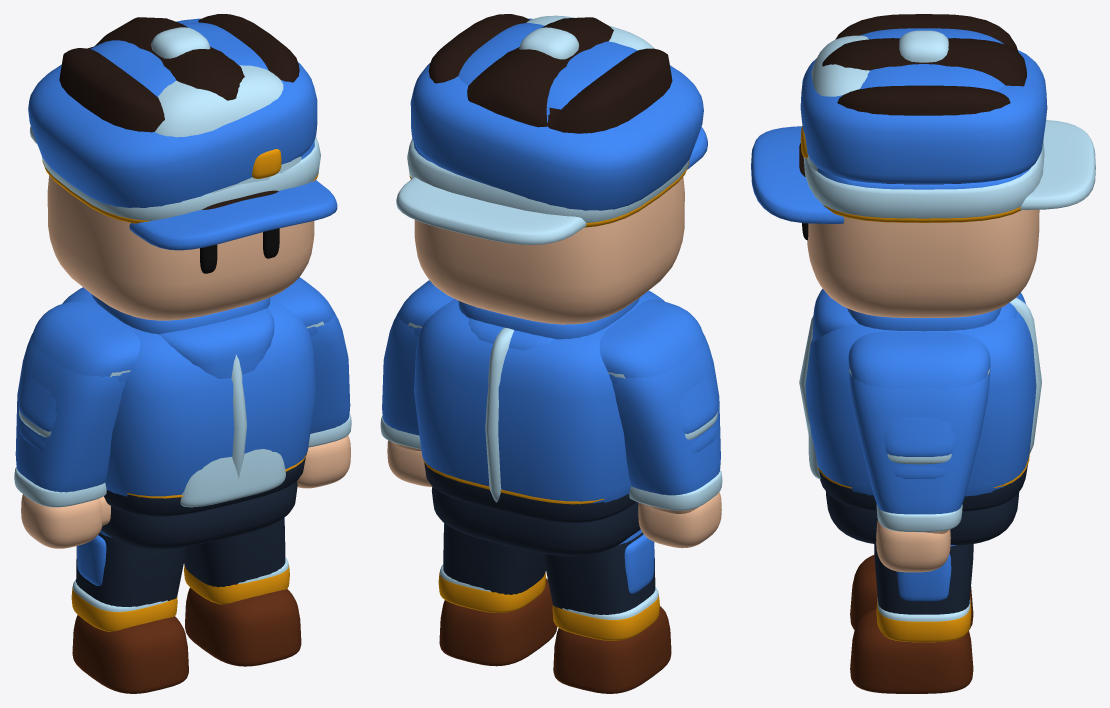
The model's file is character_modular_v4_6sets_backup.glb.
3 views of the same model, side by side, from view 1: azimuth 30°, elevation 25°; view 2: azimuth 150°, elevation 25°; view 3: azimuth 270°, elevation 25° (orthographic). The views are drawn at different scales.
Visible parts, largest first — view 1: Top06_PufferVest_Body, Hat05_Beret_Crown, Head_Base, Hat04_SpikyHair, Top03_Hoodie_LongSleeve_R, Shoes01_Sneaker_Upper_L, Shoes01_Sneaker_Upper_R, Hat01_Cap_Visor, Top01_Jersey_Sleeve_R, Bot02_Komprang_Pelvis, Hat01_Cap_FrontPanel, Bot02_Komprang_Leg_R (+20 smaller); view 2: Top06_PufferVest_Body, Hat05_Beret_Crown, Head_Base, Hat04_SpikyHair, Top03_Hoodie_LongSleeve_R, Top01_Jersey_Sleeve_R, Bot02_Komprang_Pelvis, Hat03_Cap_BackVisor, Shoes01_Sneaker_Upper_R, Shoes01_Sneaker_Upper_L, Bot02_Komprang_Leg_R, Bot02_Komprang_Leg_L (+19 smaller); view 3: Head_Base, Hat05_Beret_Crown, Top06_PufferVest_Body, Top03_Hoodie_LongSleeve_L, Hat04_SpikyHair, Top01_Jersey_Sleeve_L, Hat06_Beanie_FoldedCuff, Shoes01_Sneaker_Upper_L, Hat01_Cap_Visor, Hat03_Cap_BackVisor, Hat01_Cap_Crown, Bot02_Komprang_Pelvis (+16 smaller).
Boxes of the visible parts, left/top/right/bottom form: Top06_PufferVest_Body: left=62, top=287, right=316, bottom=496; Hat05_Beret_Crown: left=28, top=18, right=317, bottom=207; Head_Base: left=47, top=175, right=314, bottom=320; Hat04_SpikyHair: left=59, top=14, right=299, bottom=132; Top03_Hoodie_LongSleeve_R: left=15, top=308, right=125, bottom=492; Shoes01_Sneaker_Upper_L: left=185, top=587, right=301, bottom=665; Shoes01_Sneaker_Upper_R: left=72, top=615, right=188, bottom=692; Hat01_Cap_Visor: left=129, top=180, right=337, bottom=250; Top01_Jersey_Sleeve_R: left=19, top=299, right=140, bottom=431; Bot02_Komprang_Pelvis: left=101, top=481, right=297, bottom=549; Hat01_Cap_FrontPanel: left=155, top=65, right=301, bottom=193; Bot02_Komprang_Leg_R: left=76, top=533, right=186, bottom=607; Top06_PufferVest_Body: left=414, top=290, right=664, bottom=503; Hat05_Beret_Crown: left=410, top=18, right=703, bottom=210; Head_Base: left=414, top=177, right=684, bottom=324; Hat04_SpikyHair: left=428, top=14, right=672, bottom=133; Top03_Hoodie_LongSleeve_R: left=612, top=309, right=720, bottom=495; Top01_Jersey_Sleeve_R: left=599, top=299, right=717, bottom=433; Bot02_Komprang_Pelvis: left=431, top=486, right=640, bottom=556; Hat03_Cap_BackVisor: left=396, top=177, right=586, bottom=244; Shoes01_Sneaker_Upper_R: left=553, top=606, right=671, bottom=692; Shoes01_Sneaker_Upper_L: left=439, top=578, right=557, bottom=664; Bot02_Komprang_Leg_R: left=543, top=532, right=655, bottom=614; Bot02_Komprang_Leg_L: left=443, top=523, right=545, bottom=594; Head_Base: left=807, top=209, right=1039, bottom=318; Hat05_Beret_Crown: left=800, top=50, right=1047, bottom=183; Top06_PufferVest_Body: left=805, top=292, right=1036, bottom=496; Top03_Hoodie_LongSleeve_L: left=849, top=332, right=989, bottom=514; Hat04_SpikyHair: left=822, top=14, right=1026, bottom=184; Top01_Jersey_Sleeve_L: left=848, top=331, right=990, bottom=456; Hat06_Beanie_FoldedCuff: left=803, top=139, right=1044, bottom=218; Shoes01_Sneaker_Upper_L: left=850, top=608, right=973, bottom=692; Hat01_Cap_Visor: left=751, top=126, right=843, bottom=223; Hat03_Cap_BackVisor: left=1020, top=120, right=1095, bottom=209; Hat01_Cap_Crown: left=859, top=28, right=1005, bottom=90; Bot02_Komprang_Pelvis: left=825, top=491, right=1019, bottom=545.
Size of the model in its own units: 0.8338 by 1.55 by 0.7926.
